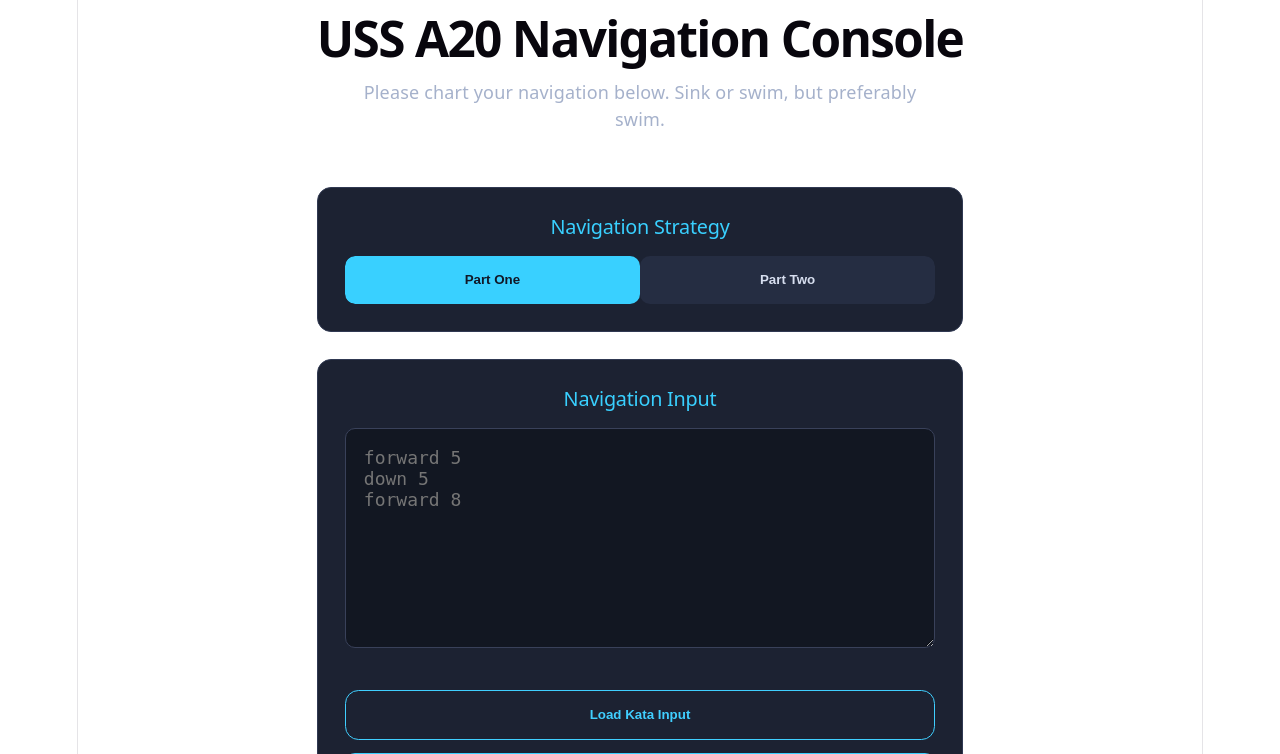
Scenario: NavigationSolver (integration) › solves the sample using the part one strategy
The width and height of the screenshot is (1280, 754).
Type "forward 5 down 5 forward 8 up 3 down 8 forward 2" into the text box. click: (640,538)
box: [345,428,935,648]
(page scrolled)
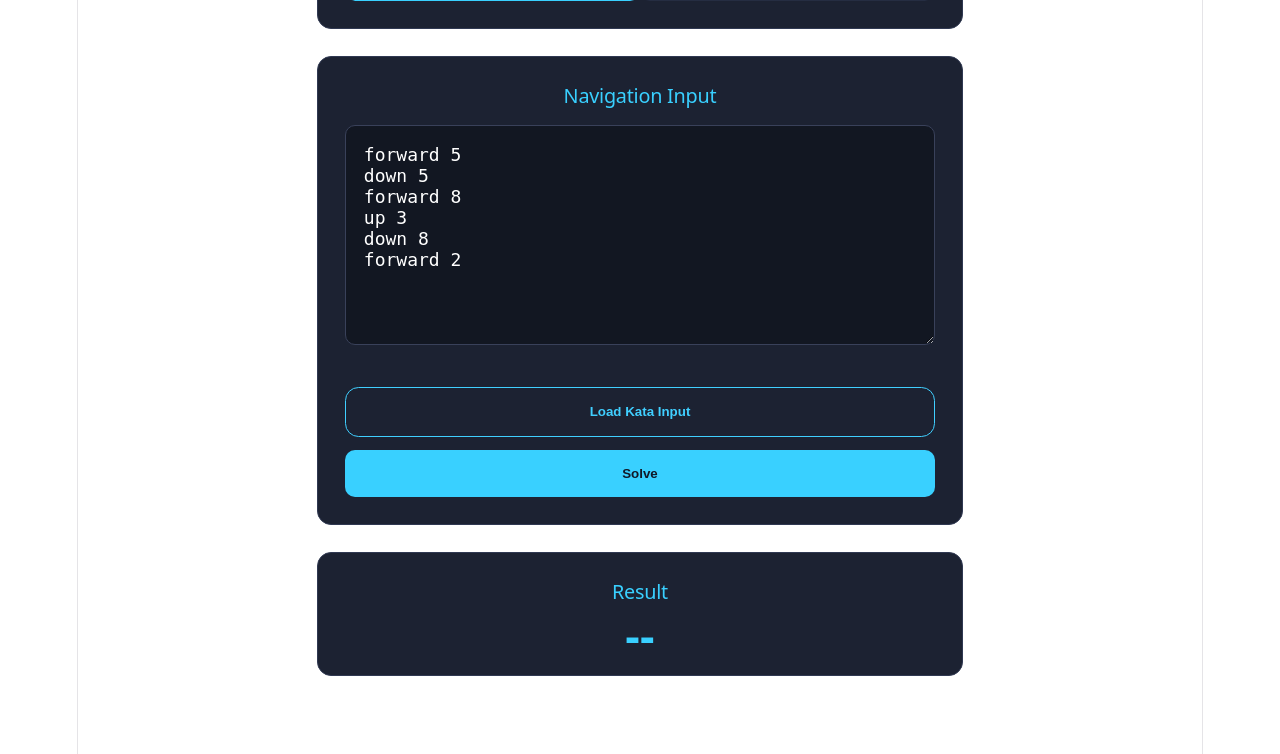
Click the button "Solve". click: (640,474)
box: [345,450,935,497]
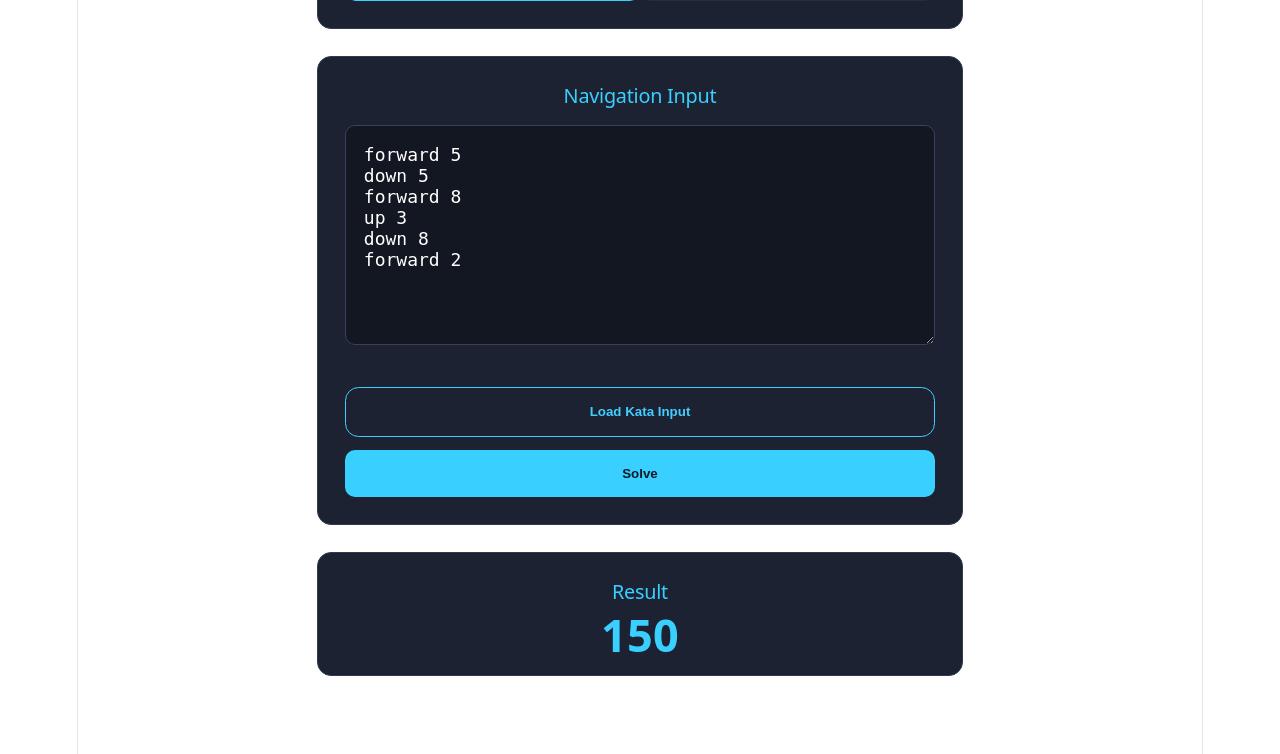
Result: the text "150" is shown at [601,604,679,665]
